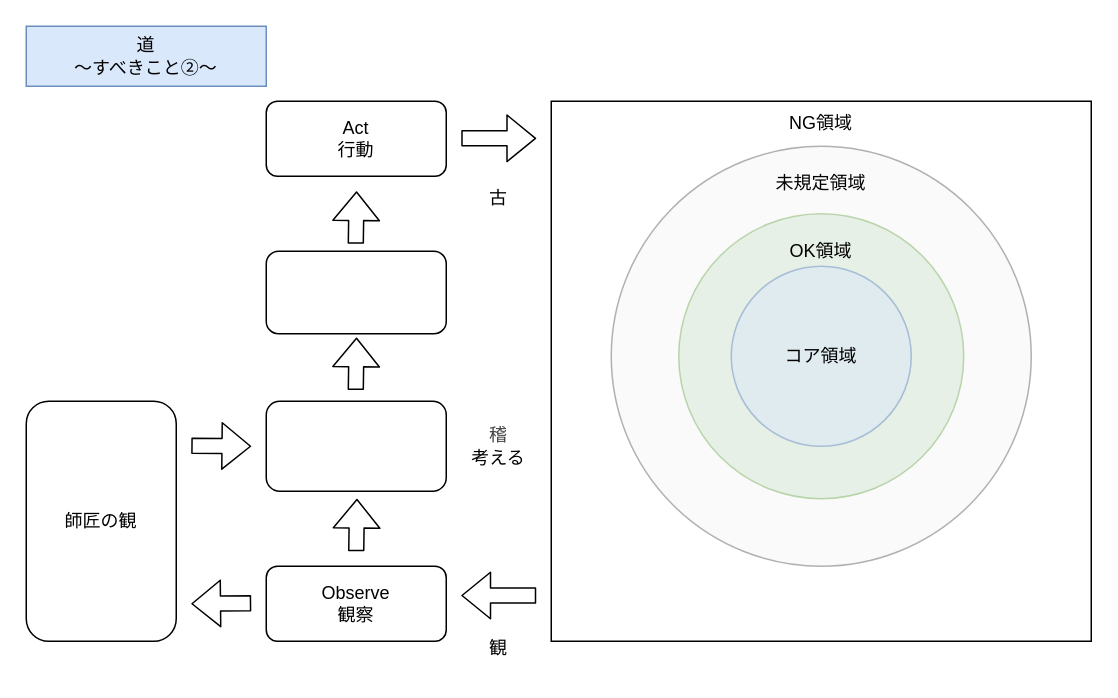
This 1118x698 diagram has some shape labels left out. The centre of each missing label's shape, as x and y in pixels:
Decide 意志決定: the point at 355,292
Orient 方向づけ: the point at 355,445
